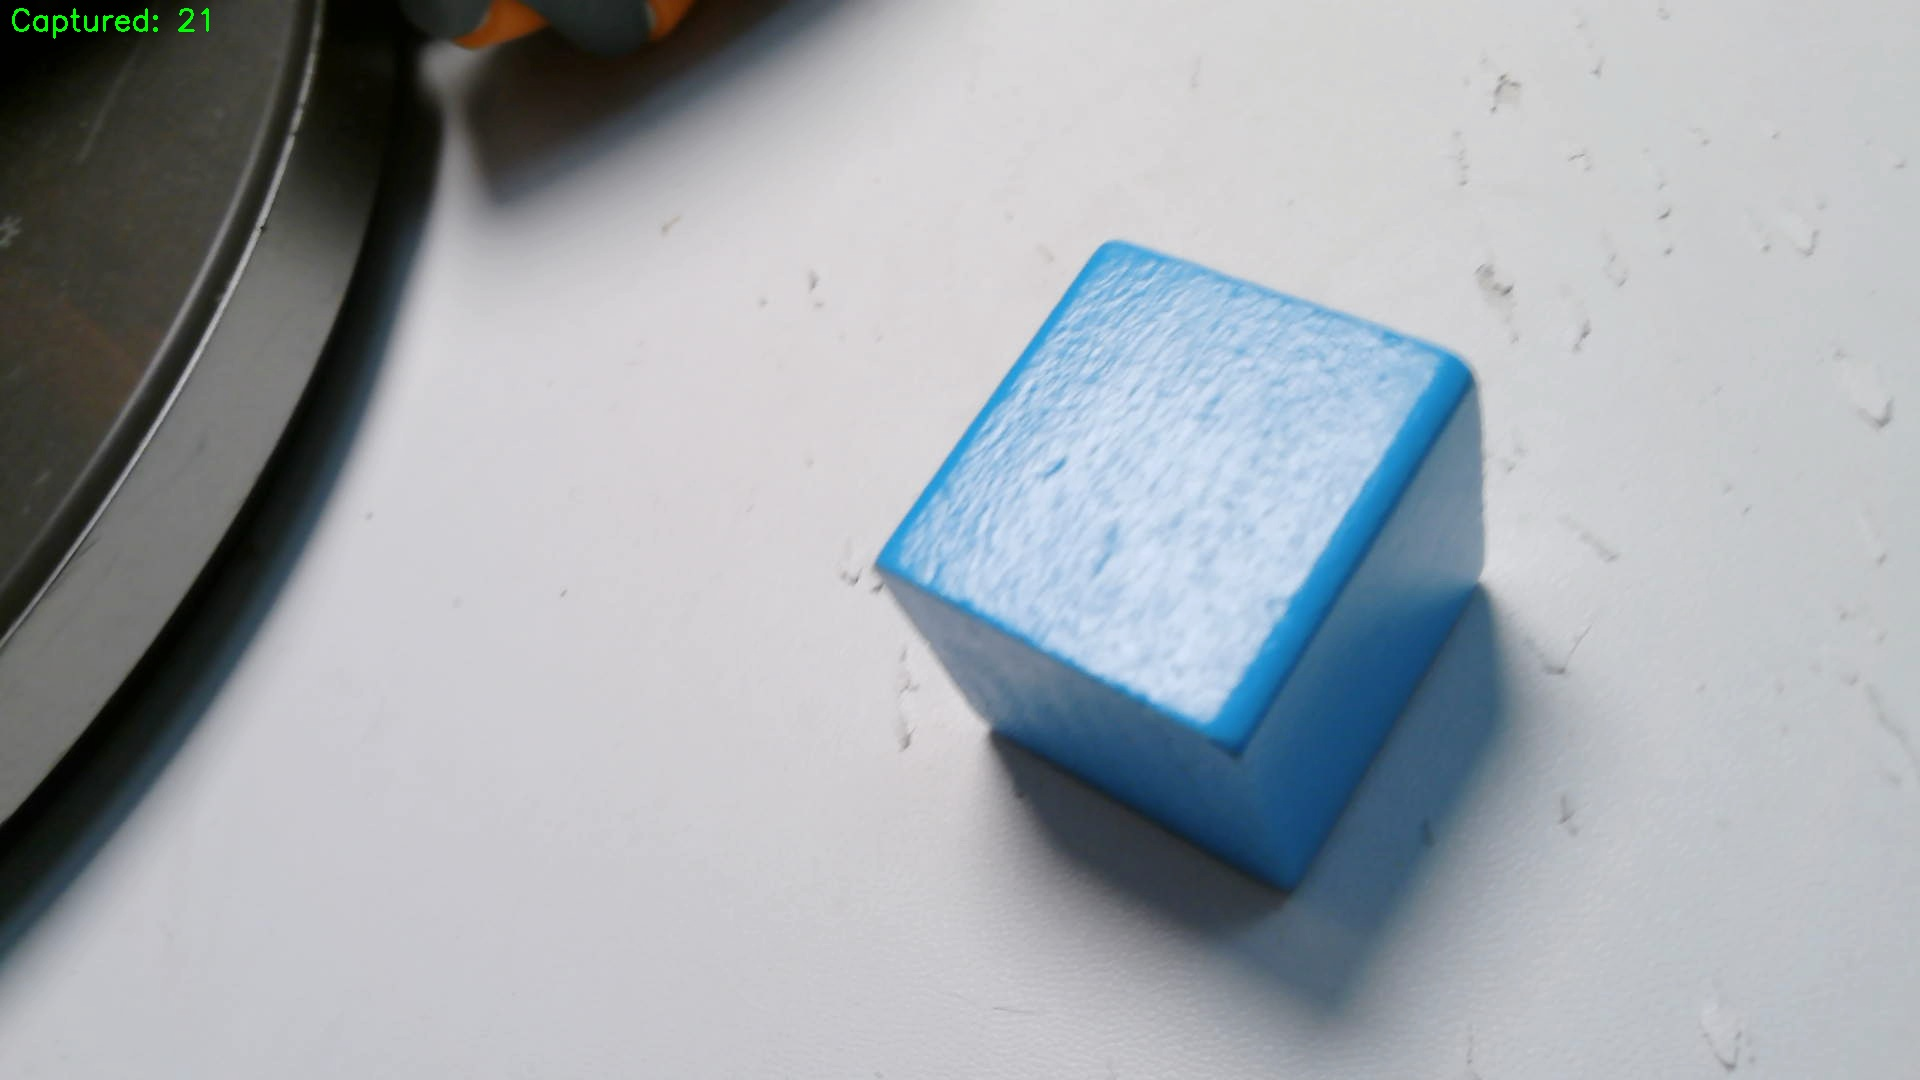blue: (882, 243, 1480, 894)
